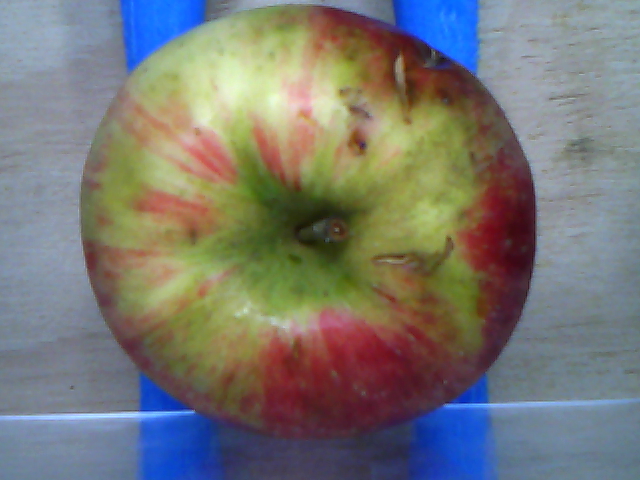cut: (393, 49, 411, 111), (372, 252, 426, 263)
